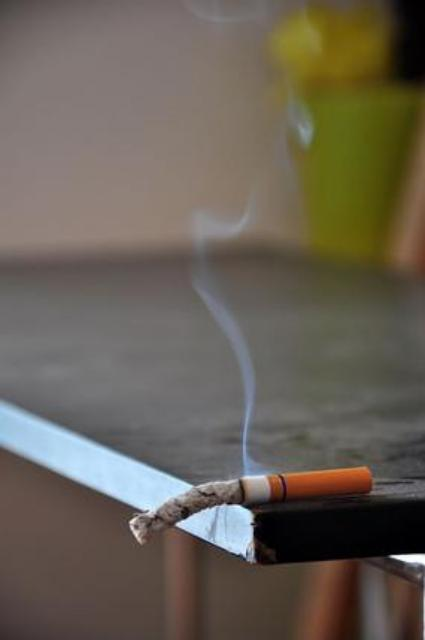Smoking: (130, 466, 374, 544)
